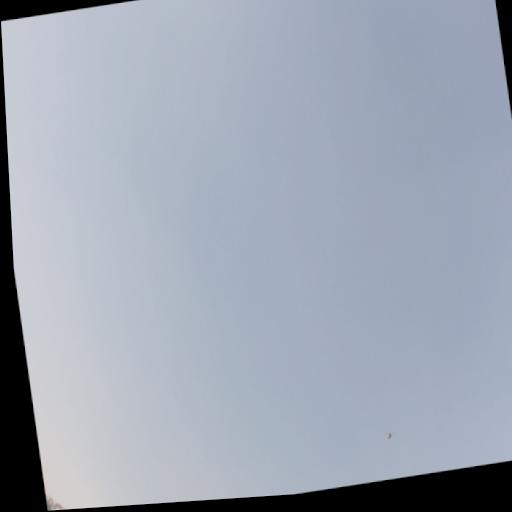drones: (382, 427, 397, 442)
